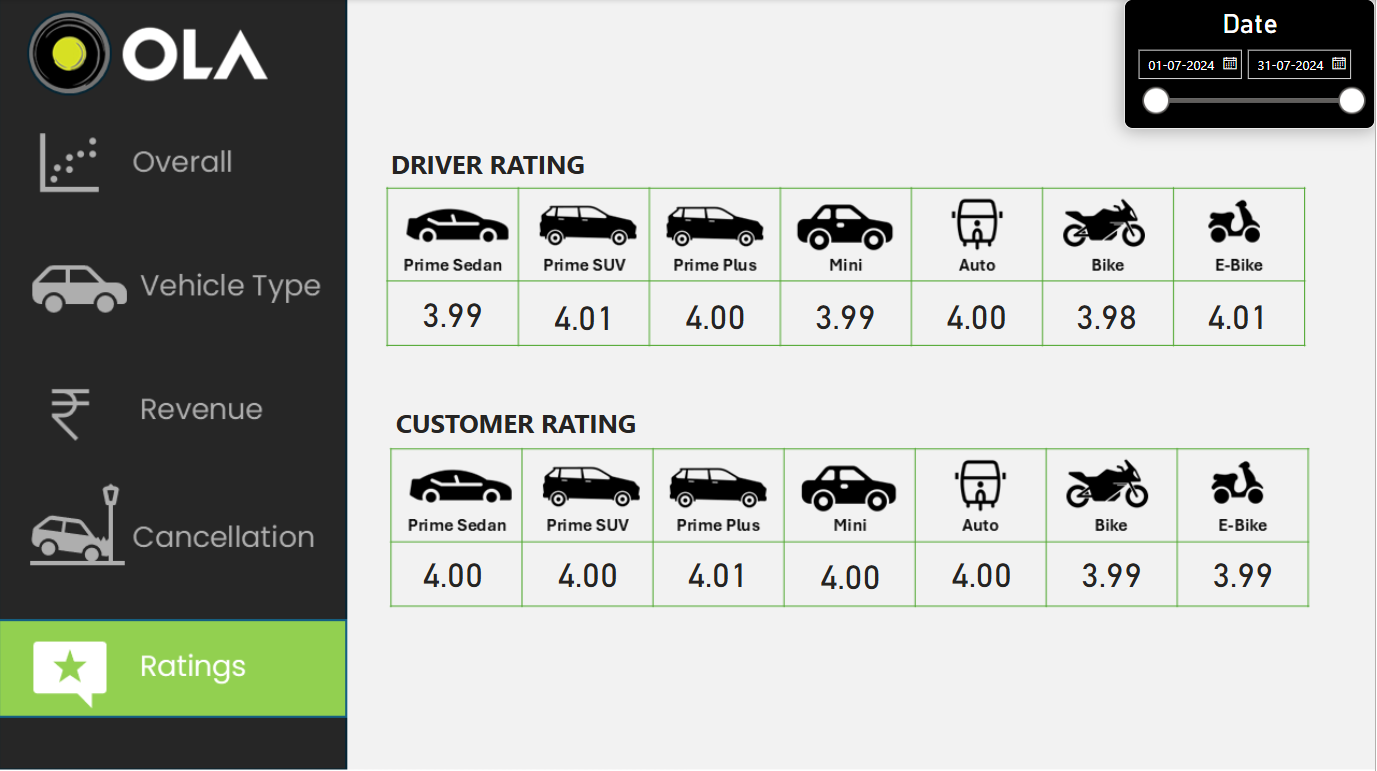

This screenshot's page, from the dashboard's own definition file:
{"tool":"powerbi","page":{"name":"ratings","canvas":[1280,720],"ordinal":4},"visuals":[{"type":"actionButton","box":[0,222,324.5,92.9],"z":0},{"type":"actionButton","box":[0,335.4,324.5,92.9],"z":1000},{"type":"actionButton","box":[0,447.6,324.5,92.9],"z":2000},{"type":"actionButton","box":[0,576.7,324.5,92.9],"z":3000},{"type":"actionButton","box":[0,108.4,325.2,91.9],"z":4000},{"type":"textbox","box":[359.5,132.7,193,43.4],"z":5000},{"type":"textbox","box":[364.3,372.8,236.5,43.4],"z":6000},{"type":"card","fields":{"Values":["Avg(July.Driver_Ratings)"]},"box":[360.7,263,123.1,59.1],"z":7000},{"type":"card","fields":{"Values":["Avg(July.Driver_Ratings)"]},"box":[483,264.8,123.5,59],"z":8000},{"type":"card","fields":{"Values":["Avg(July.Driver_Ratings)"]},"box":[605.1,263.5,123.5,59],"z":9000},{"type":"card","fields":{"Values":["Avg(July.Driver_Ratings)"]},"box":[725.9,263.5,123.5,59],"z":10000},{"type":"card","fields":{"Values":["Avg(July.Driver_Ratings)"]},"box":[848,263.5,123.5,59],"z":11000},{"type":"card","fields":{"Values":["Avg(July.Driver_Ratings)"]},"box":[968.8,263.5,123.5,59],"z":12000},{"type":"card","fields":{"Values":["Avg(July.Driver_Ratings)"]},"box":[1090.9,263.5,123.5,59],"z":13000},{"type":"card","fields":{"Values":["Avg(July.Customer_Rating)"]},"box":[360.9,505,123.5,59],"z":14000},{"type":"card","fields":{"Values":["Avg(July.Customer_Rating)"]},"box":[485.8,505,123.5,59],"z":15000},{"type":"card","fields":{"Values":["Avg(July.Customer_Rating)"]},"box":[606.5,505,123.5,59],"z":16000},{"type":"card","fields":{"Values":["Avg(July.Customer_Rating)"]},"box":[730,506.3,123.5,59],"z":17000},{"type":"card","fields":{"Values":["Avg(July.Customer_Rating)"]},"box":[852.1,505,123.5,59],"z":18000},{"type":"card","fields":{"Values":["Avg(July.Customer_Rating)"]},"box":[972.9,505,123.5,59],"z":19000},{"type":"card","fields":{"Values":["Avg(July.Customer_Rating)"]},"box":[1095,505,123.5,59],"z":20000},{"type":"slicer","title":"Date","fields":{"Values":["July.Date"]},"box":[1047,0,233.3,120.8],"z":20001}]}

Visuals, with their boxes in screenshot pixels (x1, y1, x2, y2), scaled from the page's 1280x720 canvas onto the 1377x771 screenshot:
actionButton: x1=0 y1=238 x2=349 y2=337
actionButton: x1=0 y1=359 x2=349 y2=459
actionButton: x1=0 y1=479 x2=349 y2=579
actionButton: x1=0 y1=618 x2=349 y2=717
actionButton: x1=0 y1=116 x2=350 y2=214
textbox: x1=387 y1=142 x2=594 y2=189
textbox: x1=392 y1=399 x2=646 y2=446
card - Avg(July.Driver_Ratings): x1=388 y1=282 x2=520 y2=345
card - Avg(July.Driver_Ratings): x1=520 y1=284 x2=652 y2=347
card - Avg(July.Driver_Ratings): x1=651 y1=282 x2=784 y2=345
card - Avg(July.Driver_Ratings): x1=781 y1=282 x2=914 y2=345
card - Avg(July.Driver_Ratings): x1=912 y1=282 x2=1045 y2=345
card - Avg(July.Driver_Ratings): x1=1042 y1=282 x2=1175 y2=345
card - Avg(July.Driver_Ratings): x1=1174 y1=282 x2=1306 y2=345
card - Avg(July.Customer_Rating): x1=388 y1=541 x2=521 y2=604
card - Avg(July.Customer_Rating): x1=523 y1=541 x2=655 y2=604
card - Avg(July.Customer_Rating): x1=652 y1=541 x2=785 y2=604
card - Avg(July.Customer_Rating): x1=785 y1=542 x2=918 y2=605
card - Avg(July.Customer_Rating): x1=917 y1=541 x2=1050 y2=604
card - Avg(July.Customer_Rating): x1=1047 y1=541 x2=1179 y2=604
card - Avg(July.Customer_Rating): x1=1178 y1=541 x2=1311 y2=604
"Date" slicer: x1=1126 y1=0 x2=1376 y2=129
